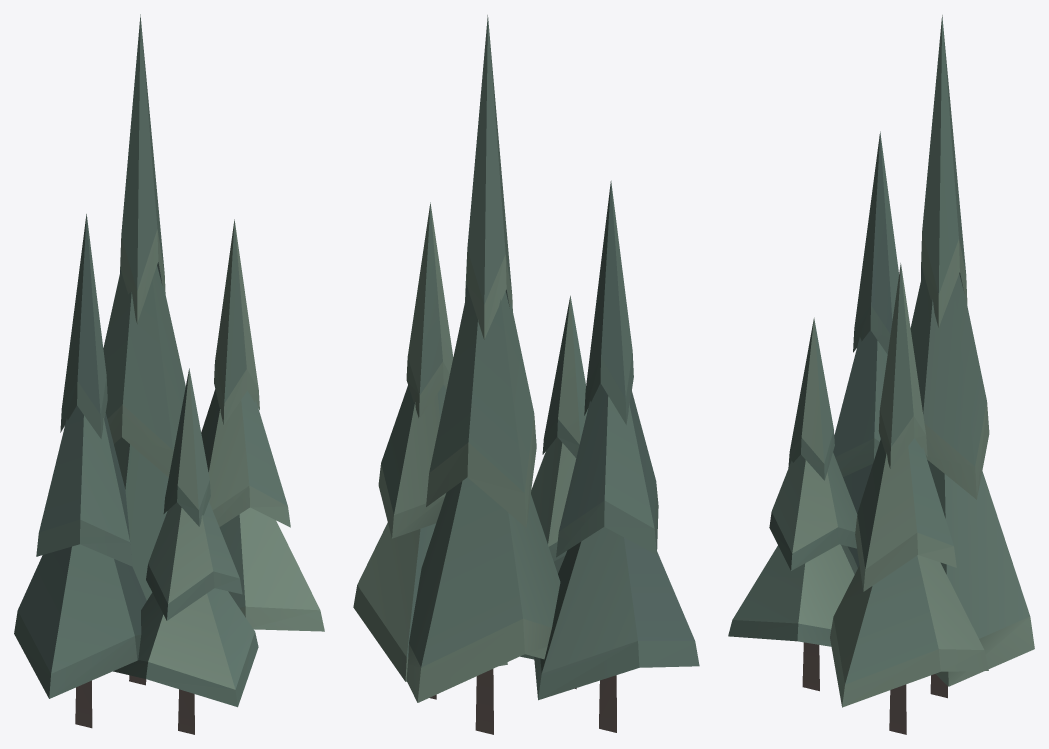
Rendered from pines.lod2.glb.
The picture shows the model from 3 angles, left to right: view 1: azimuth 30°, elevation 25°; view 2: azimuth 150°, elevation 25°; view 3: azimuth 270°, elevation 25°; orthographic projection. The views are drawn at different scales.
Size of the model in its own units: 3.98 by 9.08 by 3.71.
